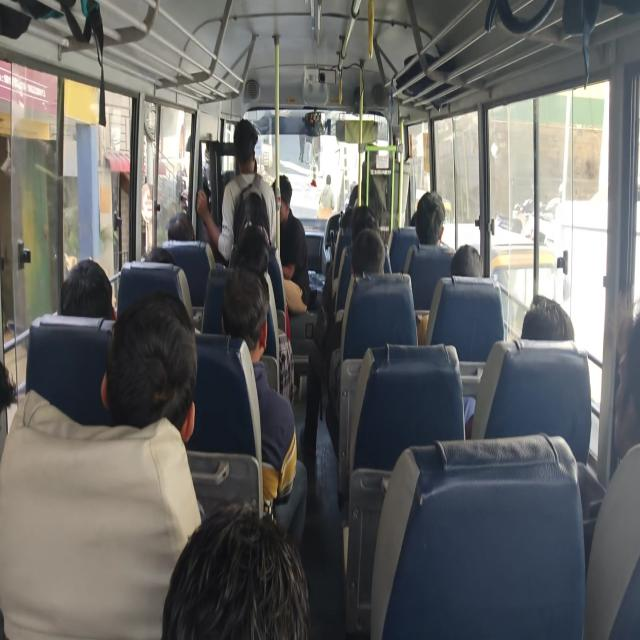person: (0, 290, 203, 638), (221, 265, 308, 549), (161, 500, 310, 639), (299, 227, 385, 456), (464, 294, 574, 437), (100, 290, 198, 444), (196, 118, 280, 264), (271, 174, 310, 314), (613, 310, 639, 460), (59, 258, 116, 320), (521, 294, 574, 341), (414, 190, 451, 249), (351, 228, 385, 278), (450, 244, 483, 277), (166, 212, 195, 241), (317, 174, 335, 220)
